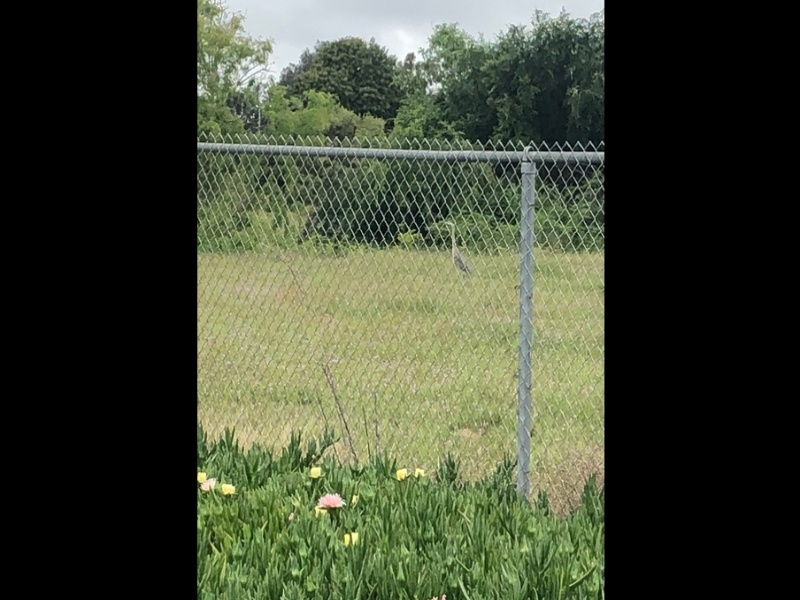heron: (440, 219, 470, 276)
